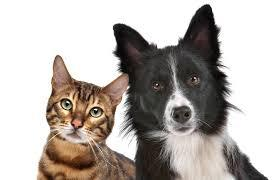animals: (108, 1, 273, 180), (36, 54, 135, 180)
